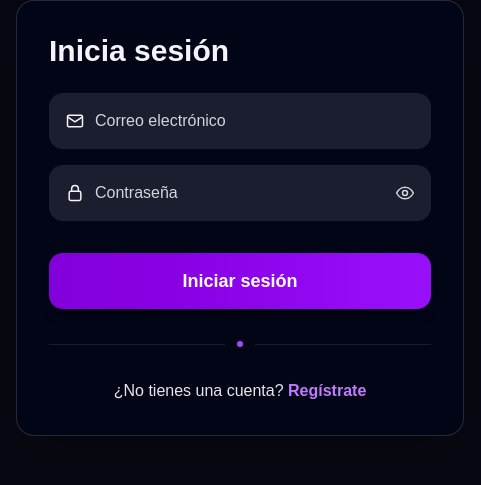
Scenario: LoginForm › should display an error when authentication fails
Type "usuario@gmail.com" into the field labelled "Correo electrónico" at [255, 121], box top-left (95, 93), bottom-right (415, 149)
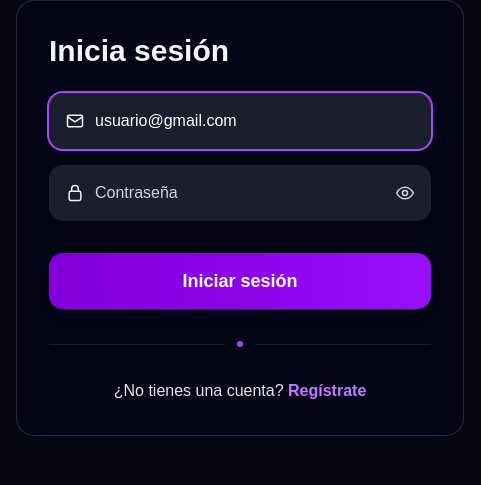
Type "WrongPassword" into the password field labelled "Contraseña" at [240, 193], box top-left (95, 165), bottom-right (385, 221)
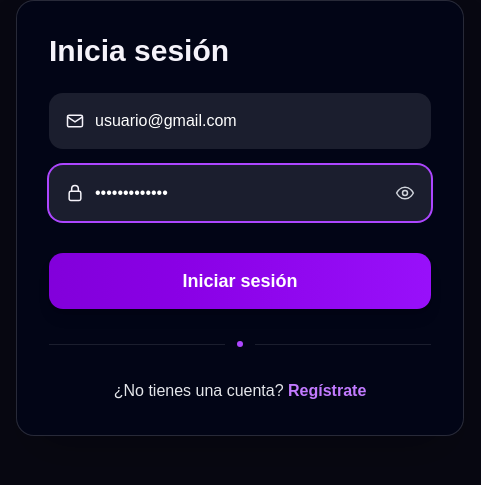
Click the button "Iniciar sesión" at [240, 281], box top-left (49, 253), bottom-right (431, 309)
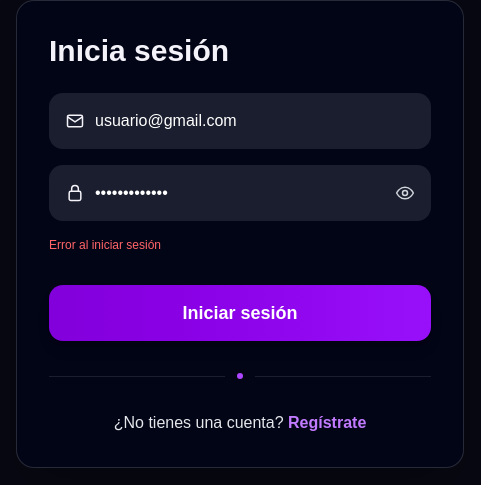
Expected: the button "Iniciar sesión" is enabled, top-left (49, 285), bottom-right (431, 341)
Result: the message reads "Error al iniciar sesión" at top-left (49, 238), bottom-right (161, 252)
